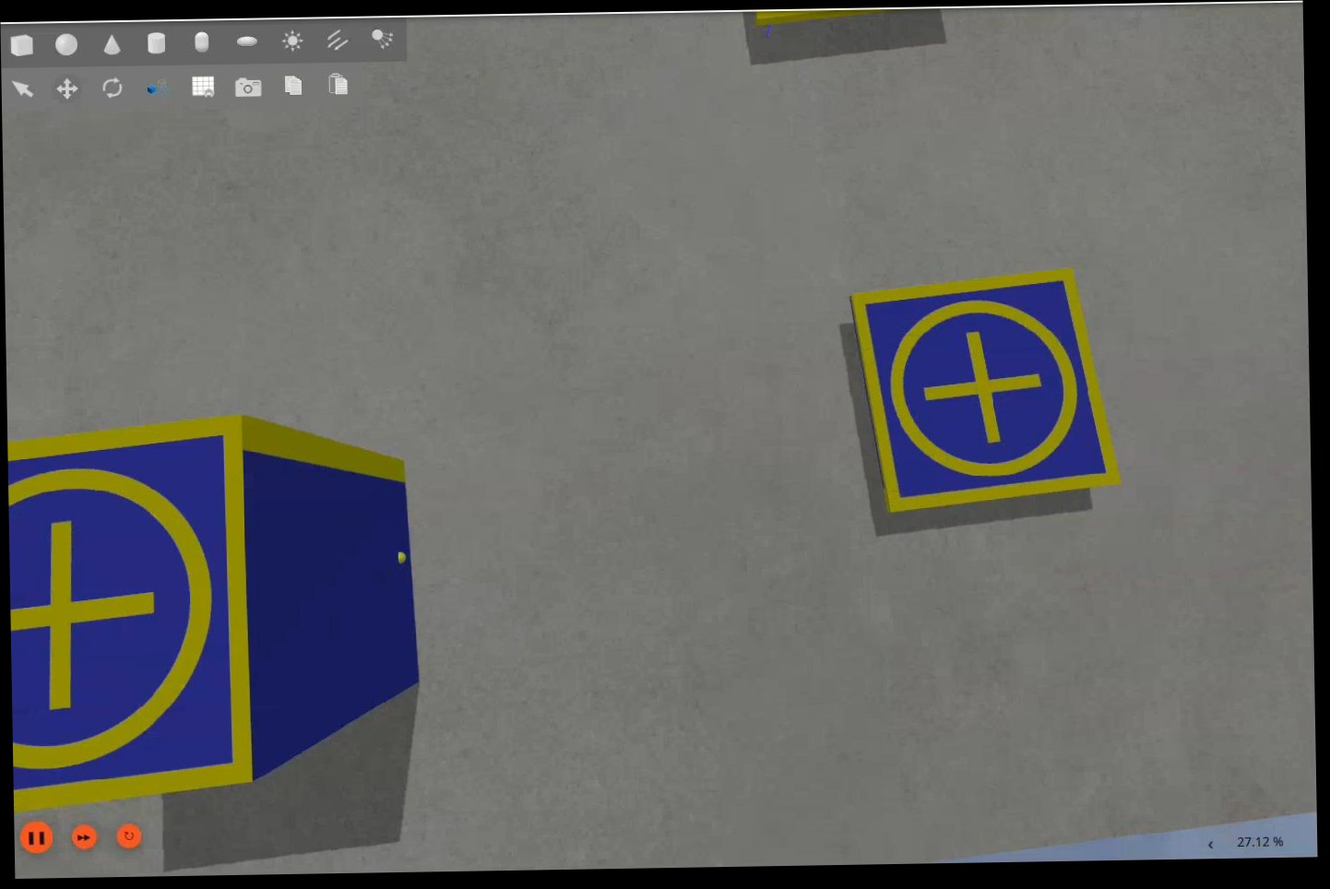small_base: (7, 415, 256, 819), (847, 267, 1122, 517)
